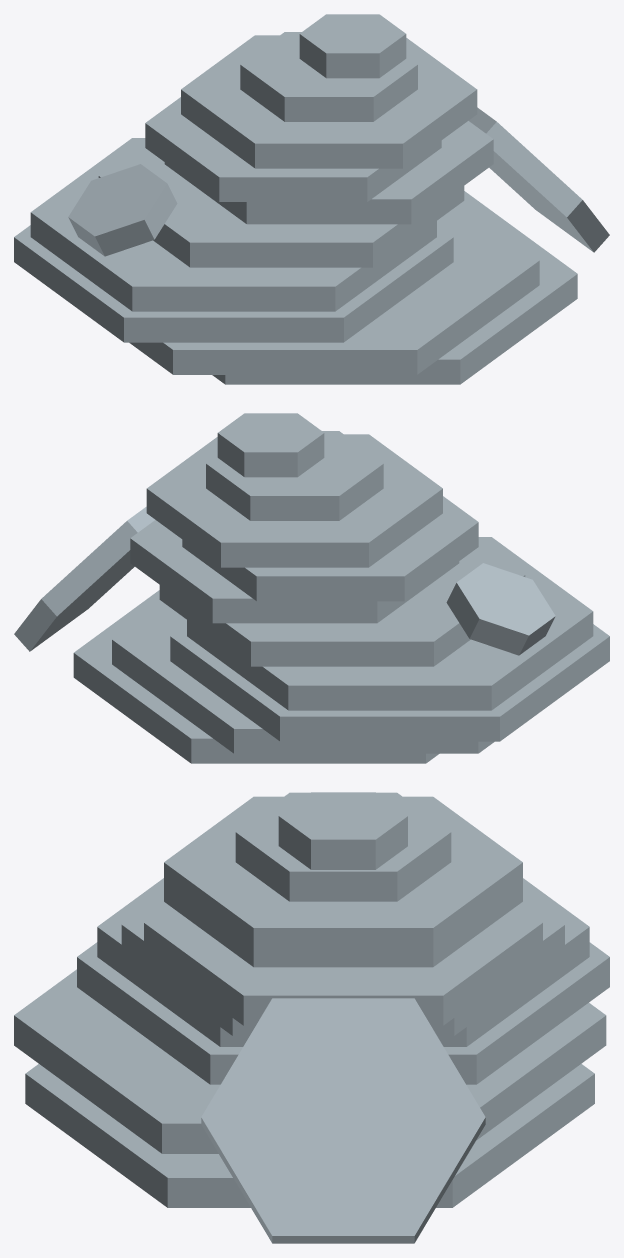
The model's file is Mountain_05.fbx.
3 views of the same model, one above another, from view 1: azimuth 30°, elevation 25°; view 2: azimuth 150°, elevation 25°; view 3: azimuth 270°, elevation 25° (orthographic). The views are drawn at different scales.
Visible parts, largest first — view 1: Cylinder.011; view 2: Cylinder.011; view 3: Cylinder.011.
Part boxes in pixels (x1,y1,x2,y2): Cylinder.011: [14, 14, 609, 384]; Cylinder.011: [14, 413, 609, 763]; Cylinder.011: [14, 792, 609, 1243].
Bounding box in the file's own units: 6.45 × 3 × 5.37.
